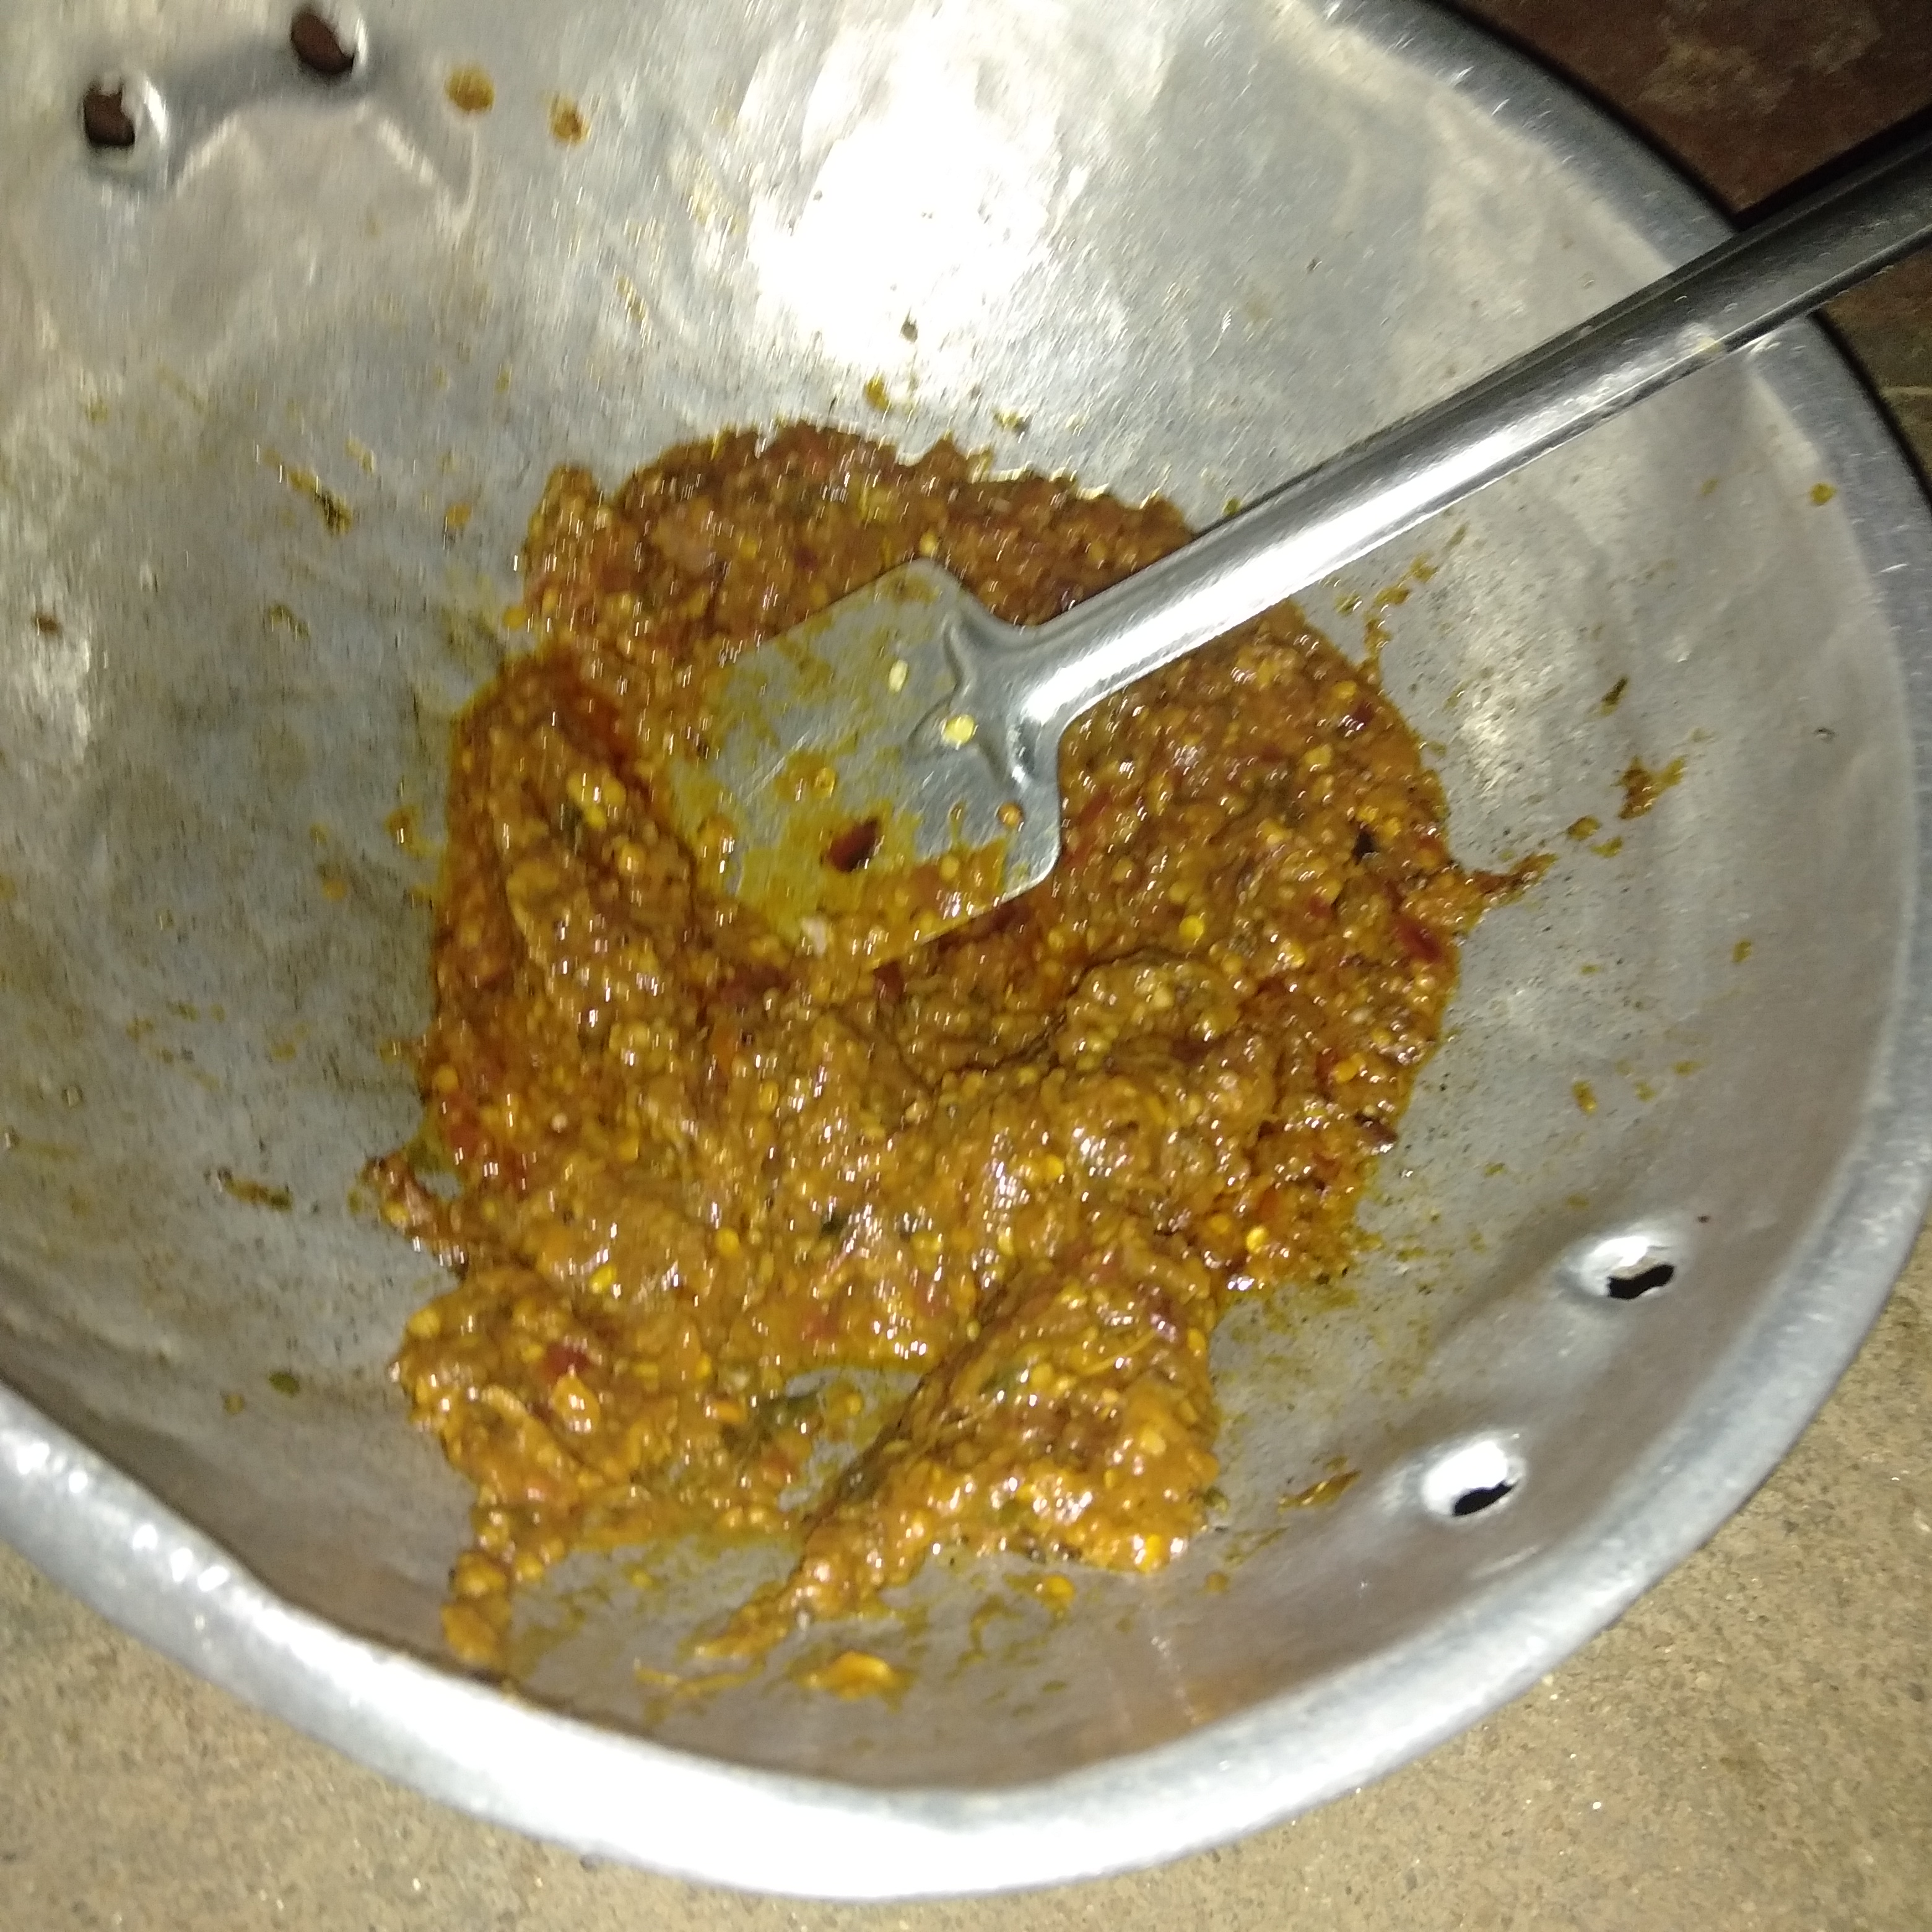food: (366, 403, 1566, 1704)
